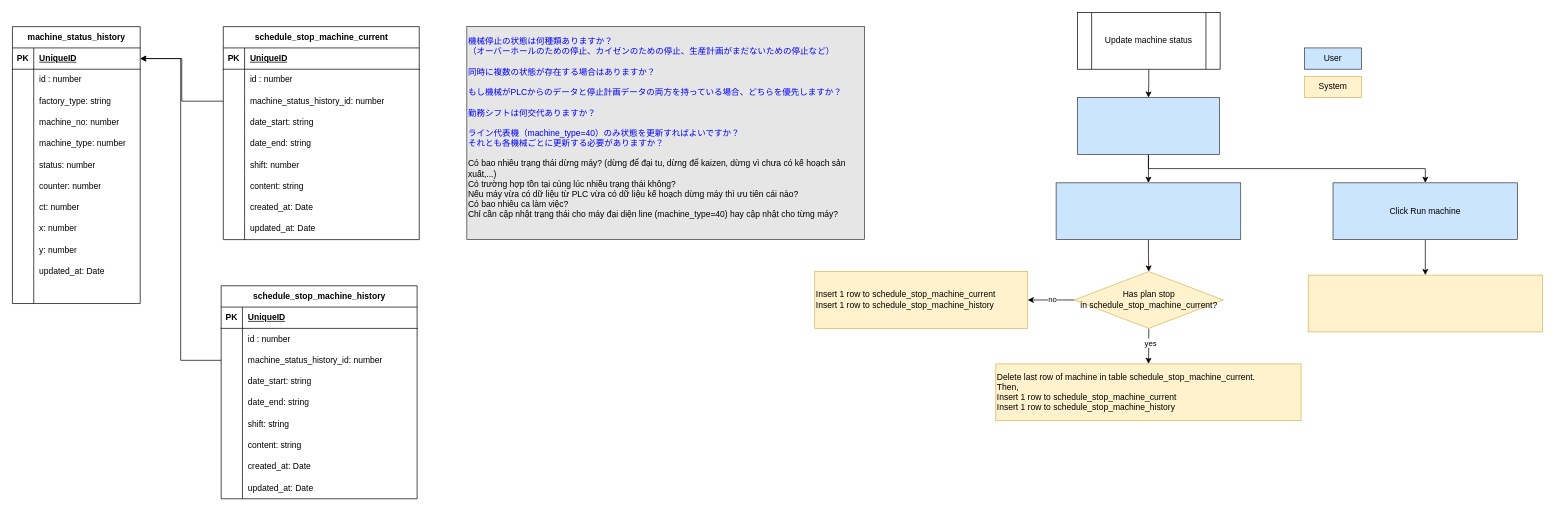
This 1555x511 diagram has some shape labels left out. Each missing label, with the centre of its shape:
"Click on machine need to be updated" goes at pixel 1148 125.
"Delete machine in table schedule_stop_machine_current" goes at pixel 1424 303.
"Input information: Start date, end date, shift, content, select machine status" goes at pixel 1148 211.
